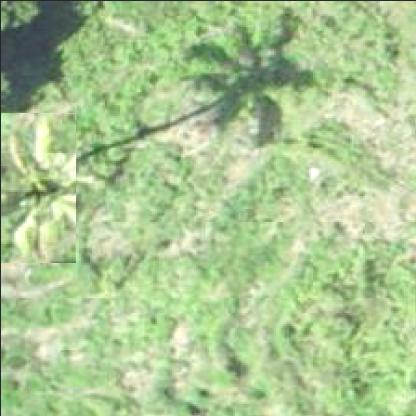coconut tree: (1, 110, 76, 262)
